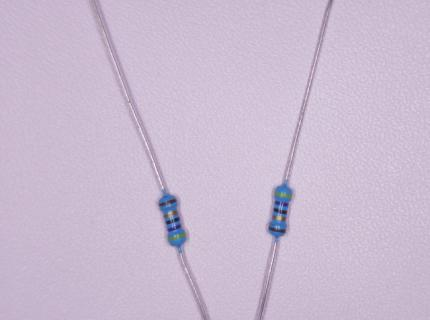Black band: (166, 217, 180, 225), (274, 208, 287, 214)
Brown band: (159, 198, 177, 207), (269, 226, 286, 234)
Gold band: (164, 210, 178, 219), (272, 216, 286, 221)
Violet band: (168, 224, 181, 232), (274, 201, 289, 207)
Yellow band: (168, 233, 185, 241), (274, 192, 292, 198)
